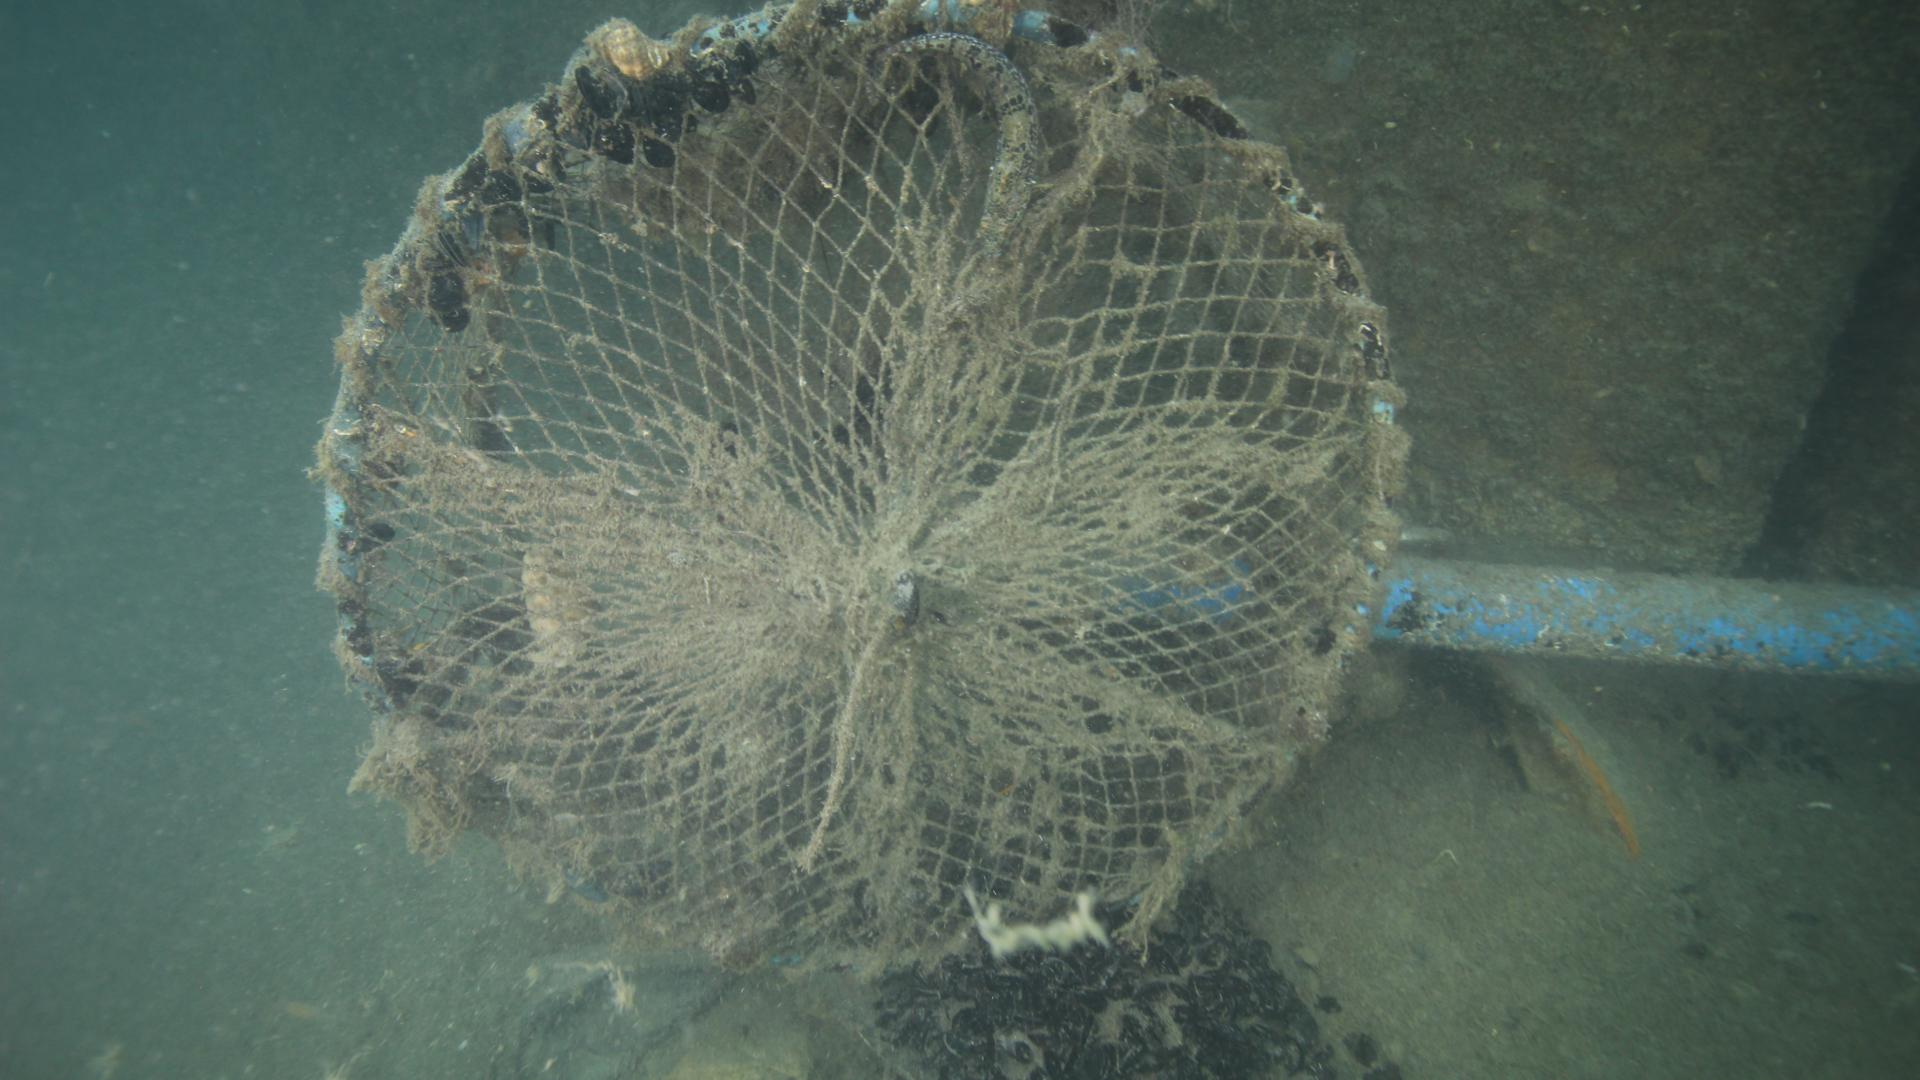circular fish trap: (323, 0, 1404, 971)
